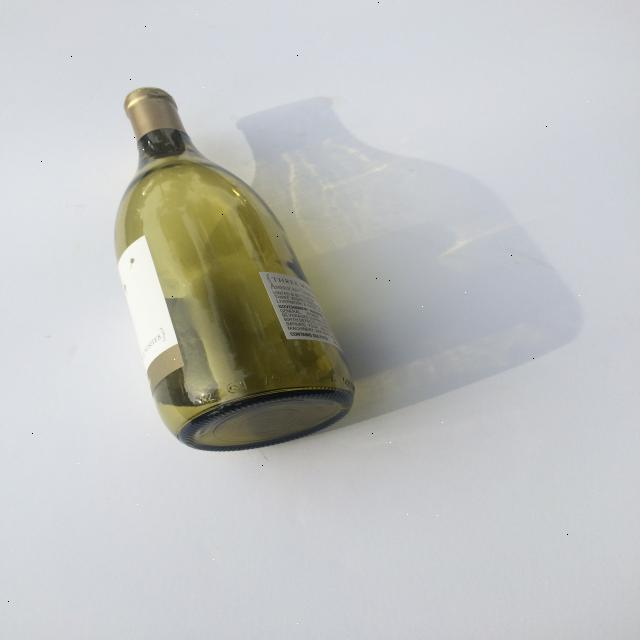glass: (112, 86, 356, 452)
